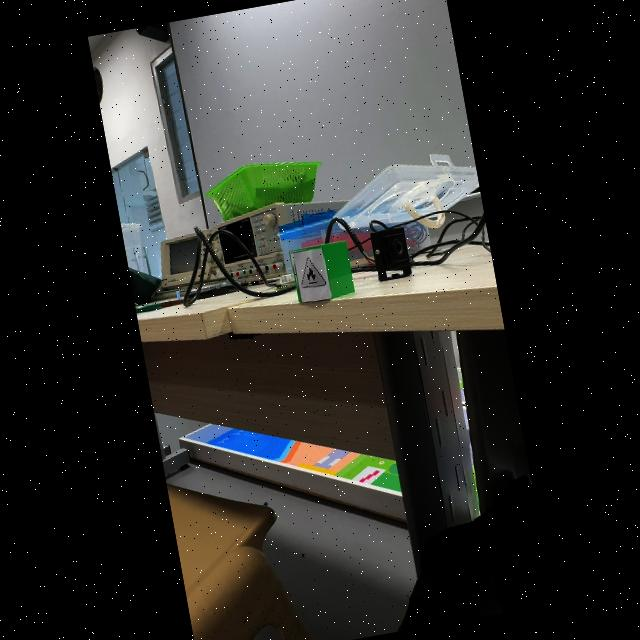Fire: (302, 258, 326, 287)
